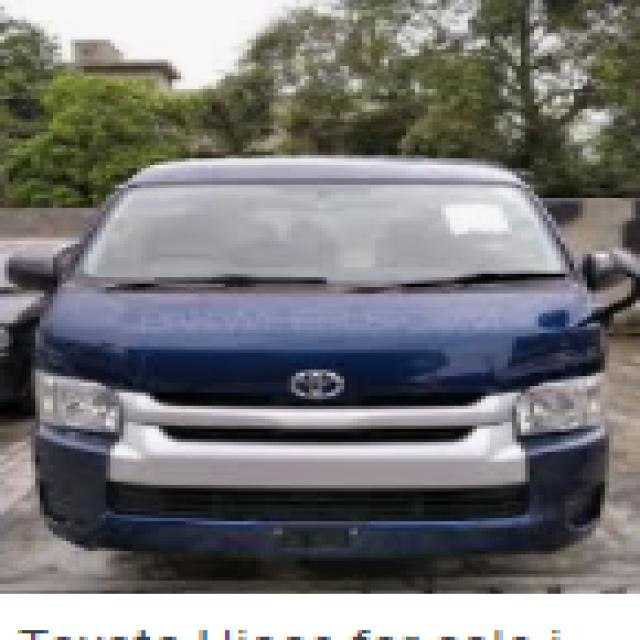Van: (2, 154, 636, 568)
